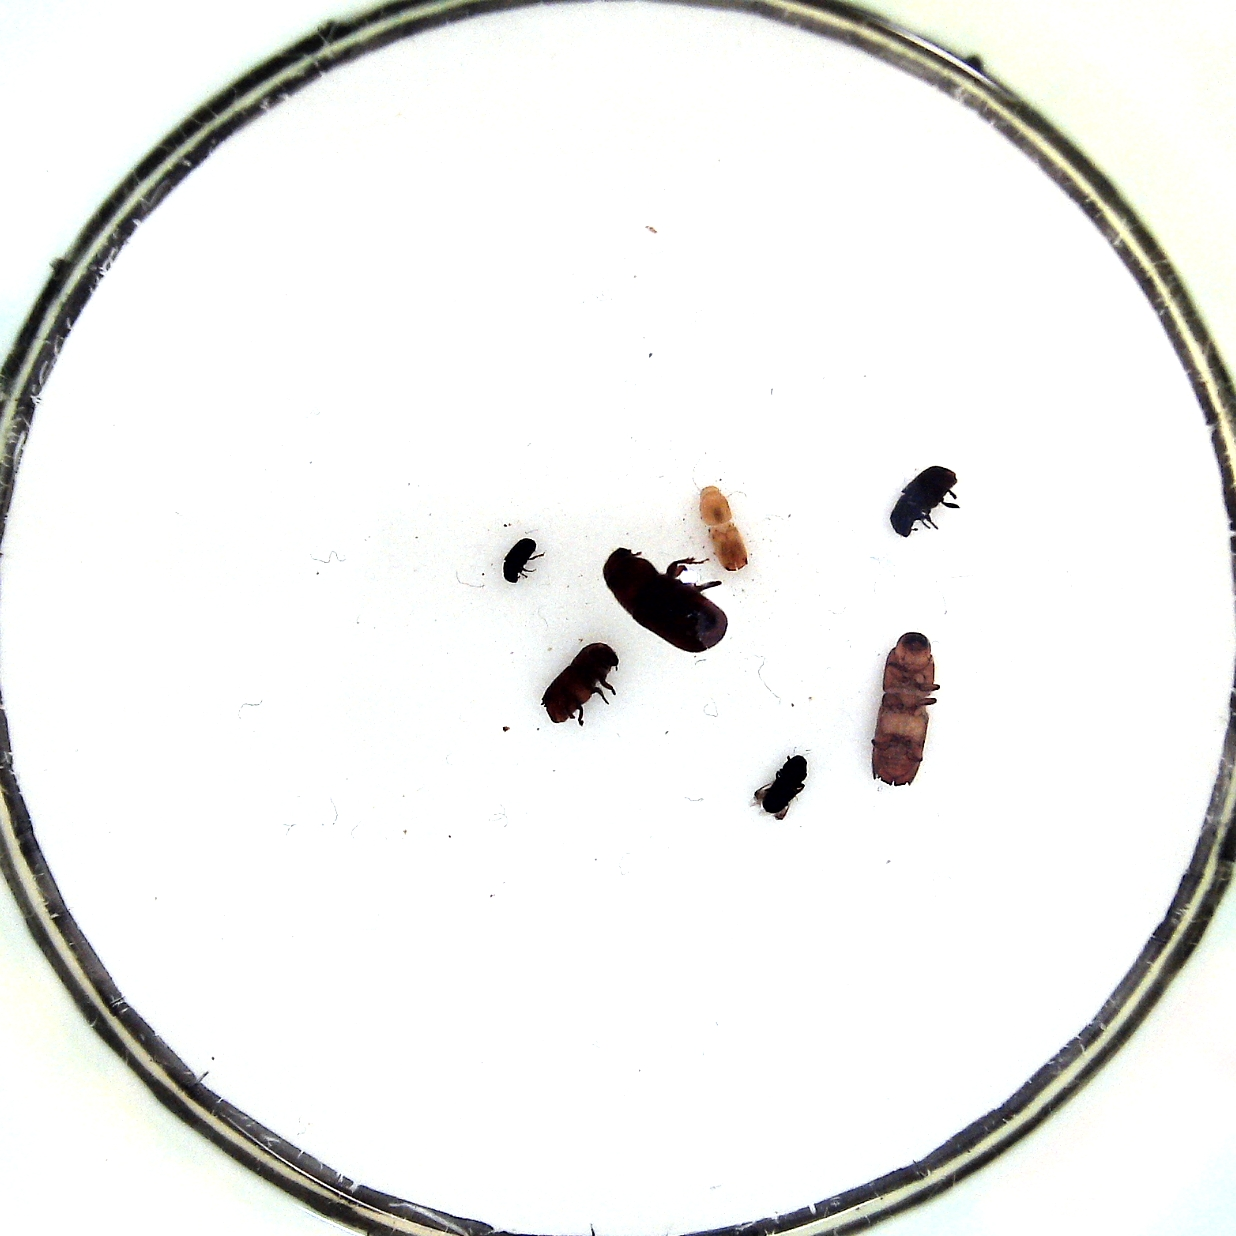Boerner: (867, 627, 944, 791)
Leconte: (596, 541, 738, 655)
Linnaeus: (538, 638, 626, 730)
acuminatus: (690, 478, 754, 576)
armandi: (885, 458, 965, 543)
coleoptera: (748, 750, 815, 823), (497, 535, 549, 589)
